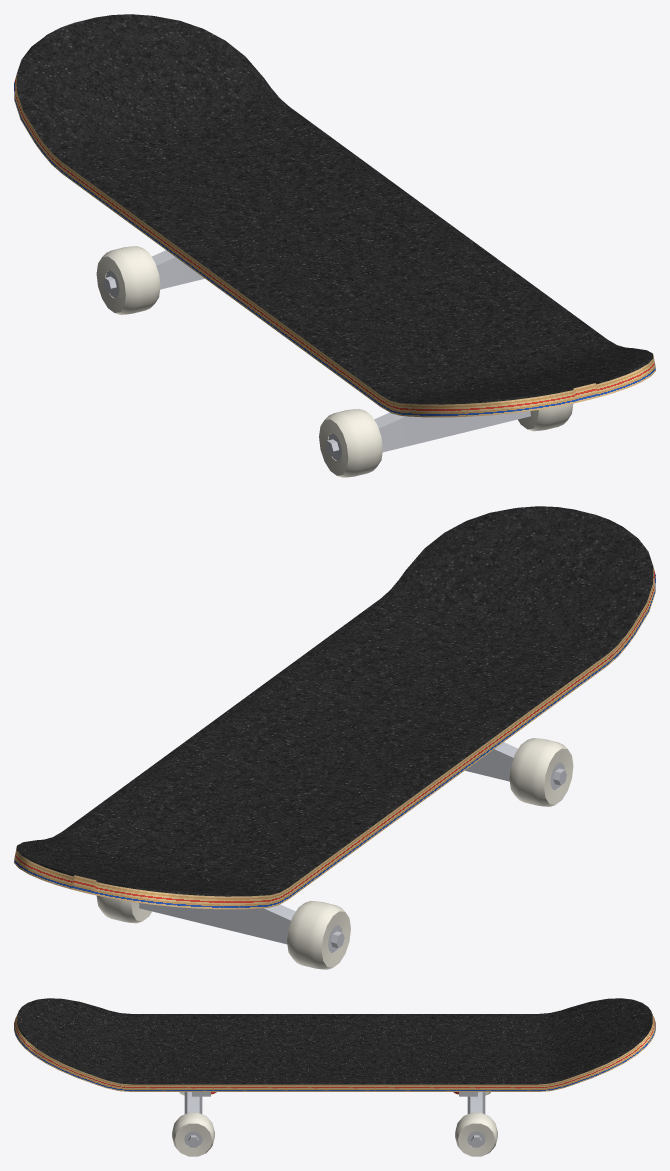
Rendered from skateboard.glb.
The picture shows the model from 3 angles, top to bottom: view 1: azimuth 30°, elevation 25°; view 2: azimuth 150°, elevation 25°; view 3: azimuth 270°, elevation 25°; orthographic projection. The views are drawn at different scales.
Visible parts, largest first — view 1: Deck, WheelBR, WheelFR, TruckFront, TruckBack, WheelFL; view 2: Deck, WheelFR, WheelBR, TruckBack, TruckFront, WheelBL; view 3: Deck, WheelBL, WheelFL, TruckBack, TruckFront.
Part boxes in pixels (x1,y1,x2,y2): Deck: (14,14,655,417); WheelBR: (96,246,160,314); WheelFR: (319,409,382,477); TruckFront: (325,411,530,456); TruckBack: (103,250,204,293); WheelFL: (518,403,573,431); Deck: (14,506,655,909); WheelFR: (509,738,573,806); WheelBR: (287,901,350,969); TruckBack: (139,903,344,948); TruckFront: (465,742,566,785); WheelBL: (96,895,151,923); Deck: (14,998,655,1091); WheelBL: (455,1112,497,1156); WheelFL: (172,1112,214,1156); TruckBack: (453,1092,485,1145); TruckFront: (184,1092,216,1145).
Size of the model in its own units: 0.216 by 0.1463 by 0.8076.
6 materials, 3 textured.
